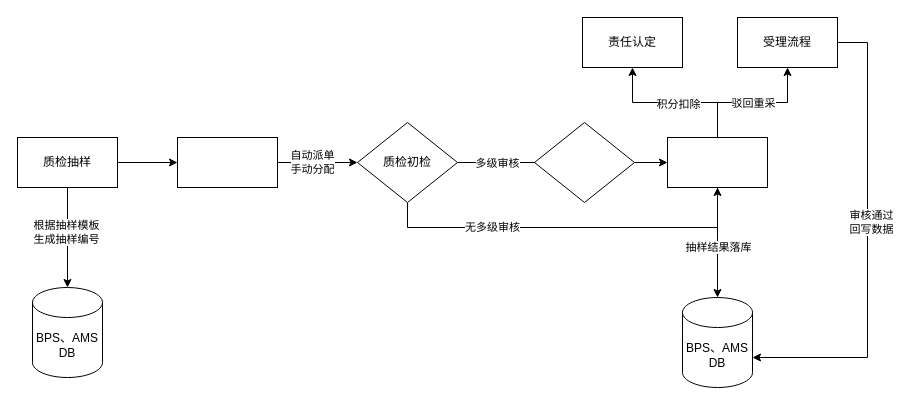
The diagram is 910 pixels wide and 405 high, and some of its shapes have lost their labels. The shapes that lost their labels are listed below. From the top down, each one's centre as x and y in pixels, then its label:
At point (227, 162): "任务分配".
At point (584, 162): "质检复核".
At point (717, 162): "差错认定".
